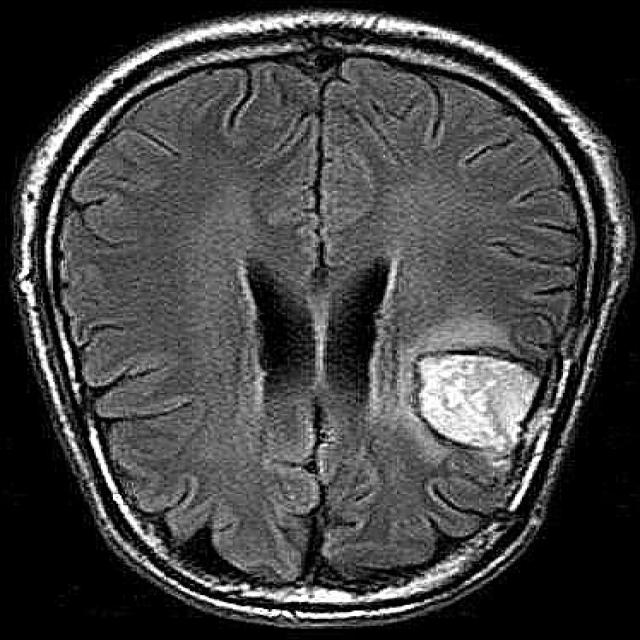Tumor-Cell: (424, 332, 544, 460)
